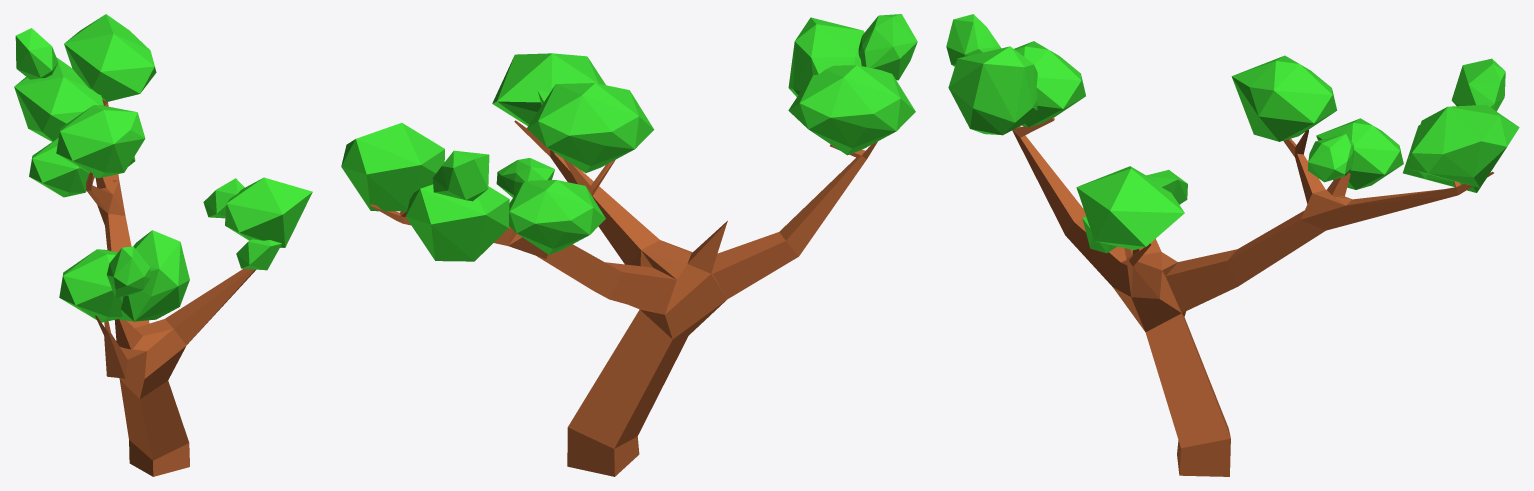
File: Tree 2.fbx
3 renders of one model, left to right at view 1: azimuth 30°, elevation 25°; view 2: azimuth 150°, elevation 25°; view 3: azimuth 270°, elevation 25°, orthographic. The views are drawn at different scales.
Parts seen in each view (by area): view 1: Tree Trunk.001, Tree Leave.010, Tree Leave.011, Tree Leave.005, Tree Leave.001, Tree Leave.007, Tree Leave.002, Tree Leave.008, Tree Leave, Tree Leave.006, Tree Leave.003, Tree Leave.004; view 2: Tree Trunk.001, Tree Leave.011, Tree Leave.002, Tree Leave.010, Tree Leave.007, Tree Leave.008, Tree Leave.005, Tree Leave.001, Tree Leave, Tree Leave.006, Tree Leave.009; view 3: Tree Trunk.001, Tree Leave.010, Tree Leave.001, Tree Leave.011, Tree Leave.005, Tree Leave.002, Tree Leave.008, Tree Leave.006, Tree Leave.009, Tree Leave, Tree Leave.004.
Boxes of the visible parts, box(x1,y1,x2,y2) form: Tree Trunk.001: box(86, 99, 255, 476); Tree Leave.010: box(64, 14, 156, 101); Tree Leave.011: box(56, 105, 145, 178); Tree Leave.005: box(225, 177, 312, 247); Tree Leave.001: box(119, 230, 189, 321); Tree Leave.007: box(14, 57, 103, 141); Tree Leave.002: box(59, 249, 123, 322); Tree Leave.008: box(29, 138, 94, 197); Tree Leave: box(107, 246, 150, 298); Tree Leave.006: box(15, 28, 58, 79); Tree Leave.003: box(236, 239, 281, 270); Tree Leave.004: box(203, 178, 244, 218); Tree Trunk.001: box(370, 120, 877, 476); Tree Leave.011: box(527, 83, 654, 173); Tree Leave.002: box(788, 65, 915, 155); Tree Leave.010: box(341, 122, 444, 211); Tree Leave.007: box(405, 184, 509, 261); Tree Leave.008: box(509, 180, 605, 254); Tree Leave.005: box(492, 53, 605, 125); Tree Leave.001: box(788, 17, 864, 96); Tree Leave: box(858, 14, 917, 80); Tree Leave.006: box(432, 150, 489, 201); Tree Leave.009: box(496, 158, 554, 197); Tree Trunk.001: box(1012, 117, 1493, 476); Tree Leave.010: box(1406, 105, 1519, 187); Tree Leave.001: box(948, 46, 1037, 135); Tree Leave.011: box(1231, 55, 1337, 141); Tree Leave.005: box(1076, 166, 1184, 249); Tree Leave.002: box(1014, 41, 1085, 127); Tree Leave.008: box(1316, 118, 1403, 189); Tree Leave.006: box(1451, 58, 1505, 111); Tree Leave.009: box(1307, 134, 1354, 182); Tree Leave: box(946, 14, 1000, 66); Tree Leave.004: box(1146, 170, 1187, 204).
Size of the model in its own units: 377 by 437 by 566.
